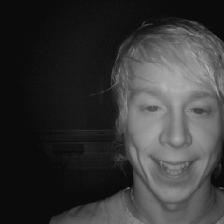happy: (109, 8, 224, 199)
